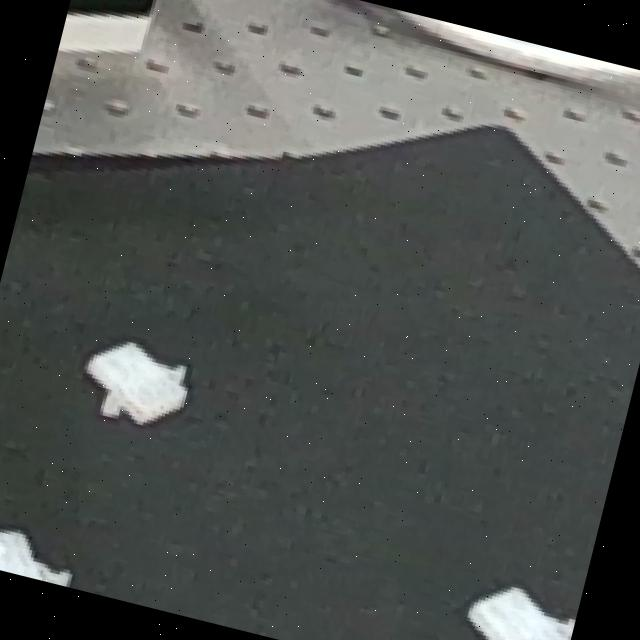pick: (56, 300, 220, 462), (444, 550, 585, 640), (0, 487, 94, 589)
